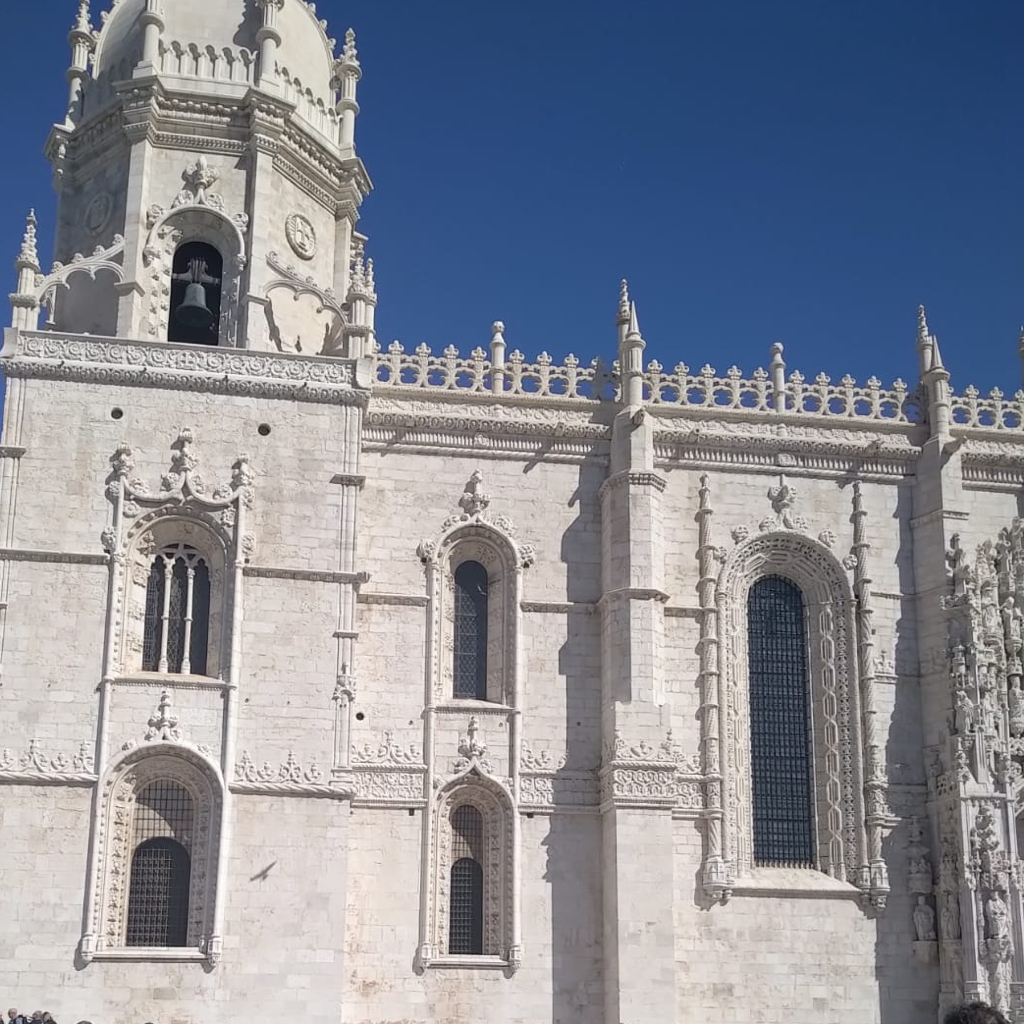arco-conopial: (431, 758, 516, 804)
arco-medio-punto: (710, 524, 854, 616), (101, 746, 225, 811), (120, 505, 231, 576), (438, 518, 520, 591)
